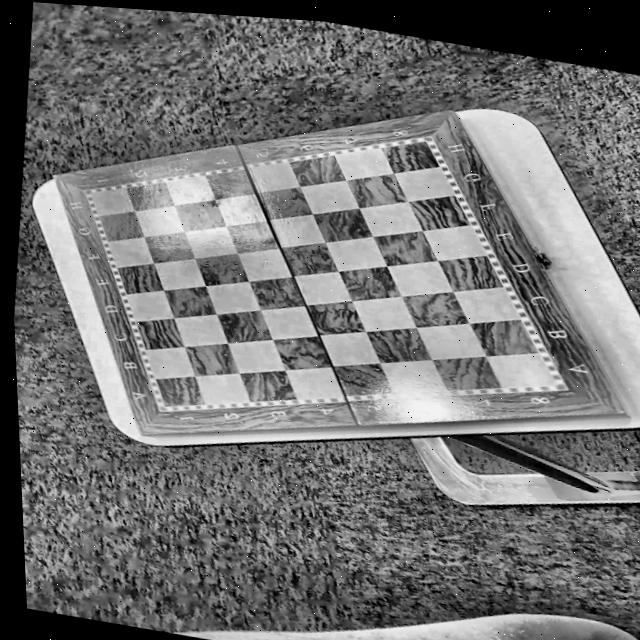chessboard: (90, 140, 555, 404)
